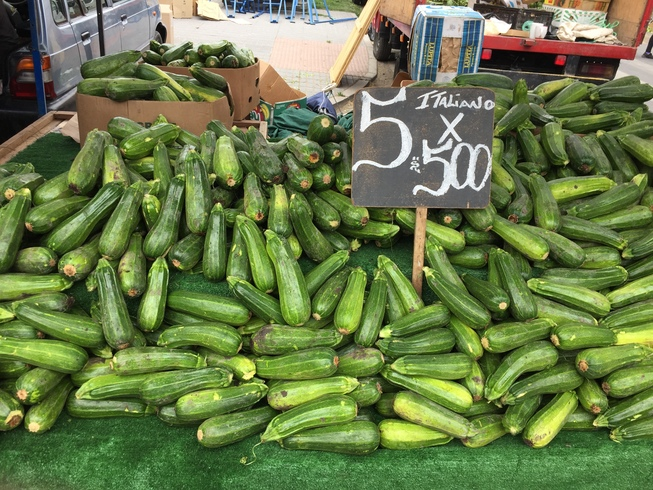precio: (354, 82, 493, 207)
